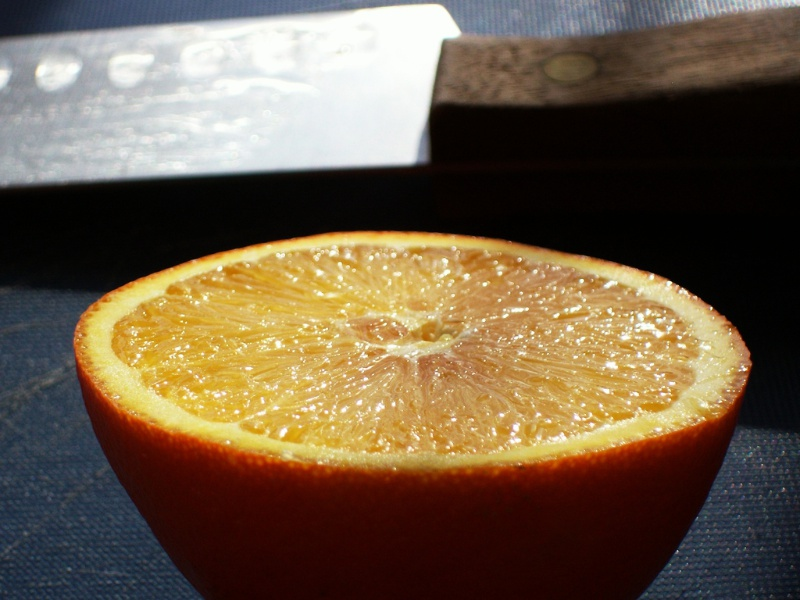knife: (1, 8, 799, 192)
